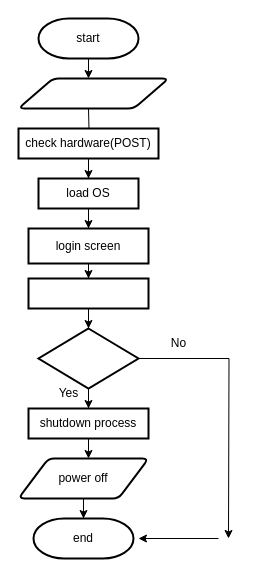
The diagram is 254 pixels wide and 576 high, and some of its shapes have lost their labels. The centre of each missing label's shape, as x and y in pixels:
power on computer: point (93, 93)
shutdown?: point (88, 358)
use computer: point (88, 293)
